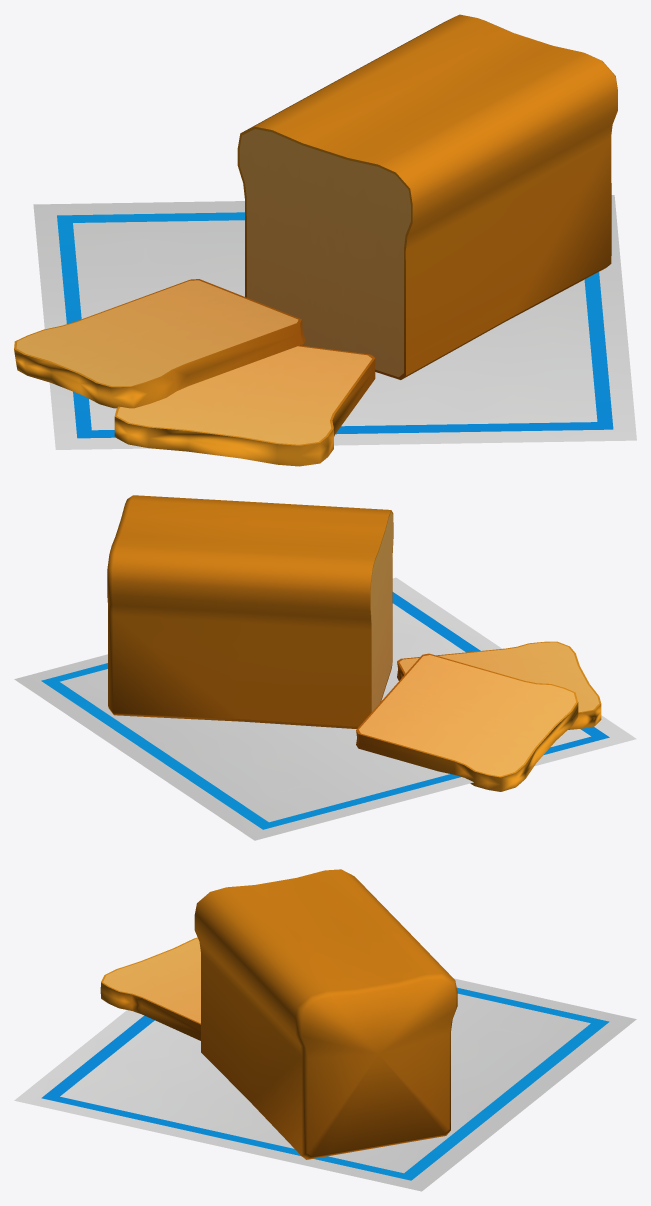
The model's file is ToastFull.fbx.
3 renders of one model, top to bottom at view 1: azimuth 30°, elevation 25°; view 2: azimuth 150°, elevation 25°; view 3: azimuth 270°, elevation 25°, orthographic. The views are drawn at different scales.
Parts seen in each view (by area): view 1: ToastFull; view 2: ToastFull; view 3: ToastFull.
Boxes of the visible parts, x1,y1,x2,y2 form: ToastFull: (14, 14, 636, 466); ToastFull: (14, 495, 636, 840); ToastFull: (14, 869, 636, 1191).
Size of the model in its own units: 1889 by 572 by 1889.
